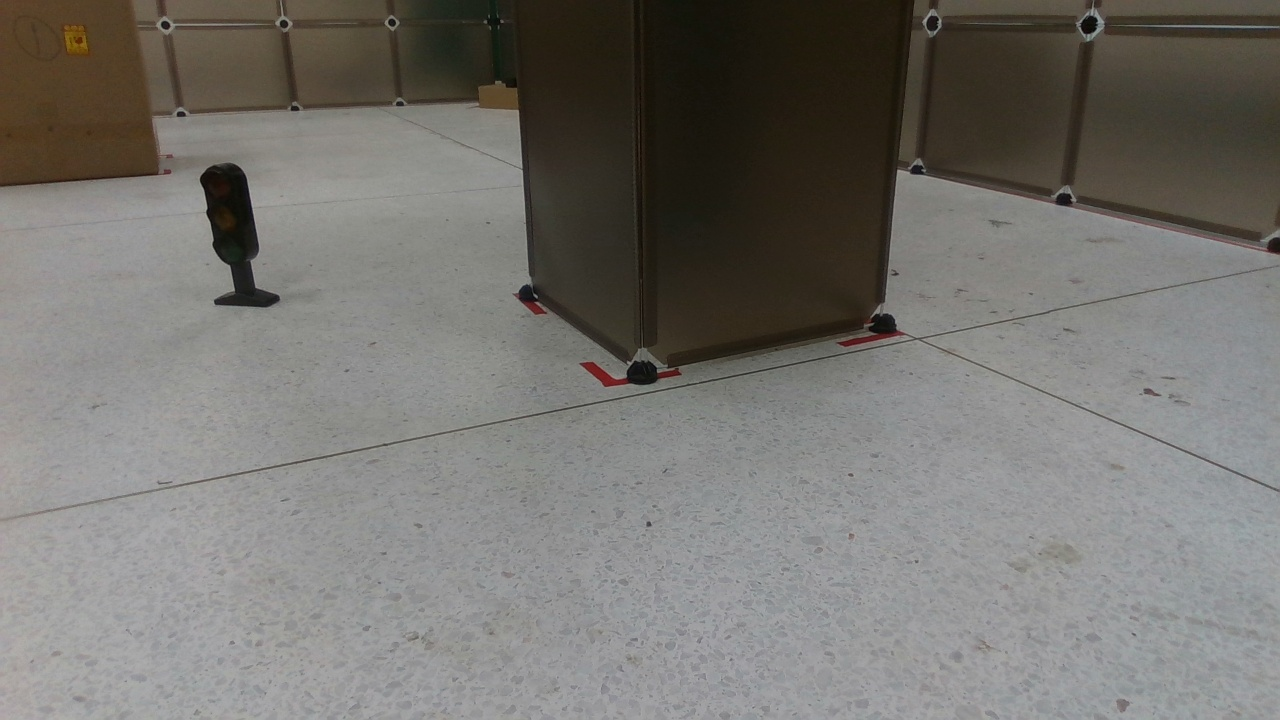Dim traffic light: (189, 160, 287, 313)
